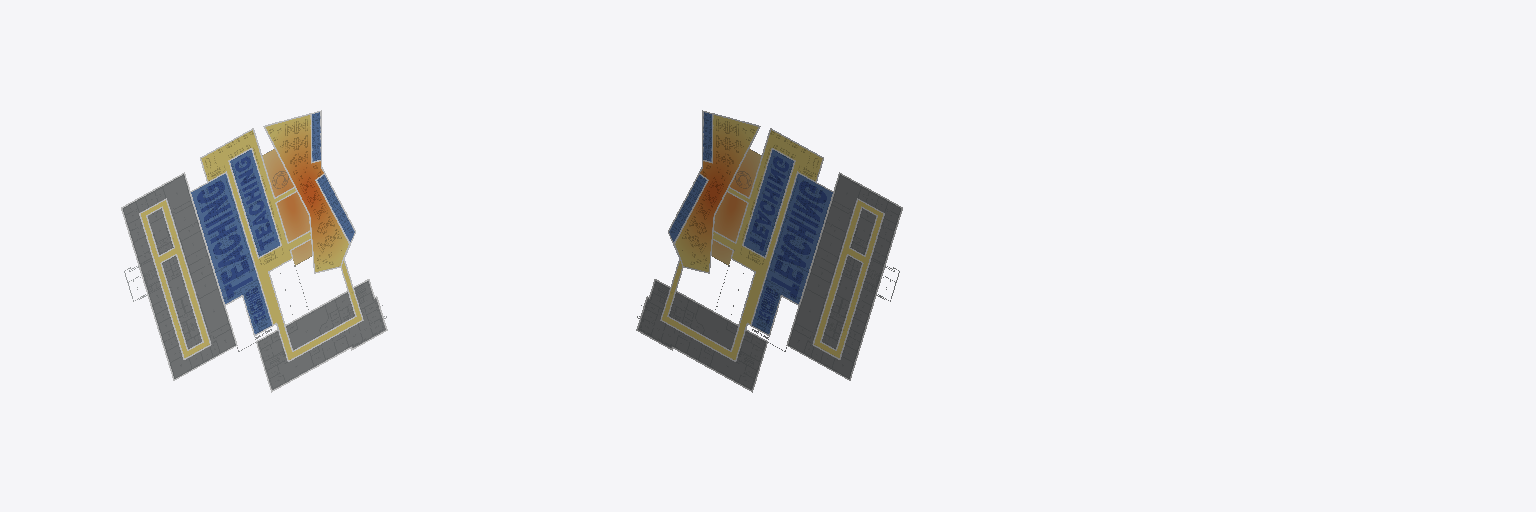
The picture shows the model from 3 angles: view 1: azimuth 30°, elevation 25°; view 2: azimuth 150°, elevation 25°; view 3: azimuth 270°, elevation 25°; orthographic projection.
Bounding box in the file's own units: 441 × 463 × 0.
Materials: 1 (1 with a texture image).